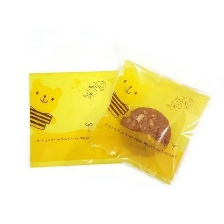snack: (84, 54, 215, 189), (24, 65, 129, 172)
